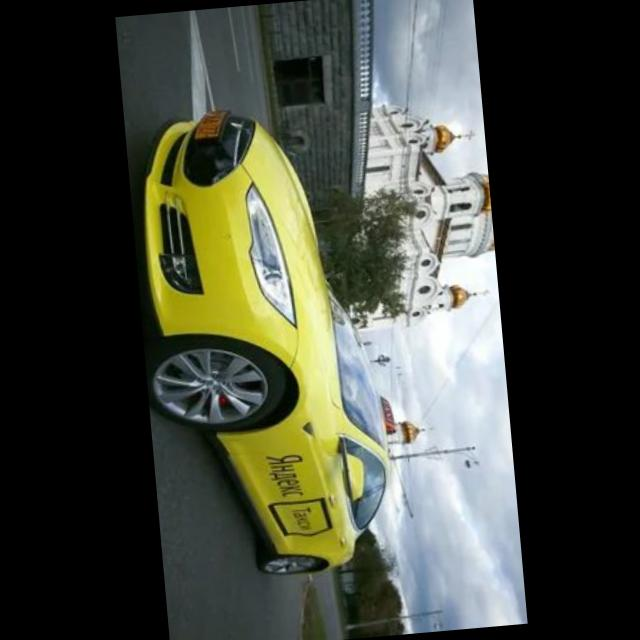taxi: (124, 97, 402, 587)
